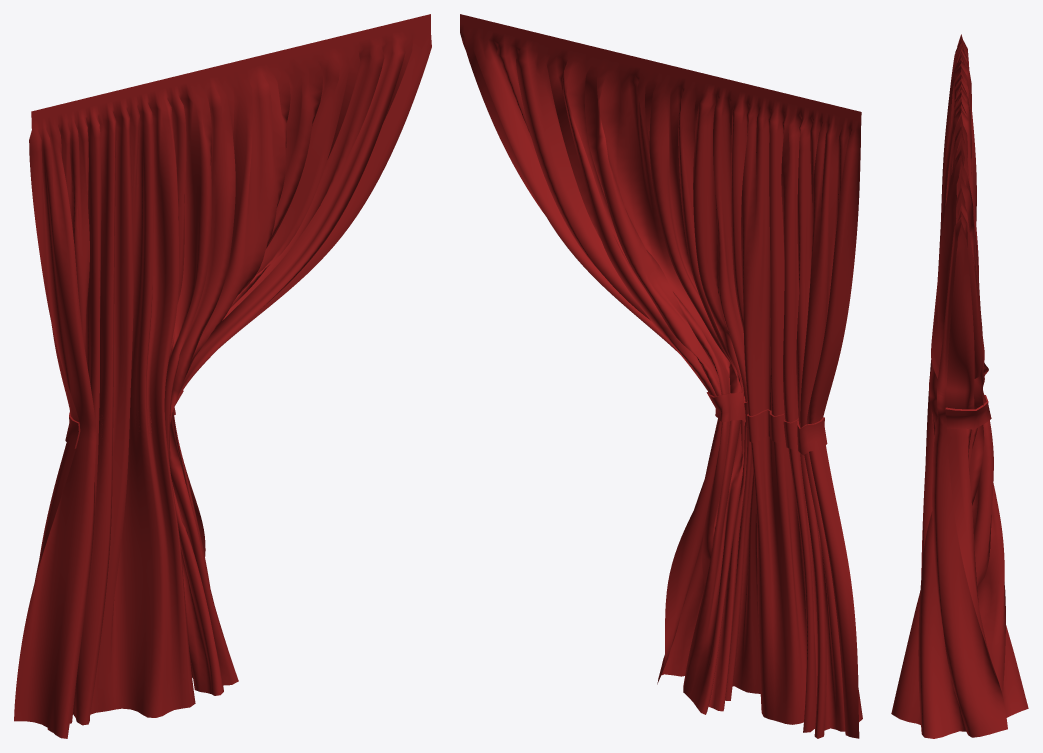
Rendered from folded_curtain_left.glb.
3 renders of one model, left to right at view 1: azimuth 30°, elevation 25°; view 2: azimuth 150°, elevation 25°; view 3: azimuth 270°, elevation 25°, orthographic. The views are drawn at different scales.
Size of the model in its own units: 1.74 by 2.54 by 0.4874.
